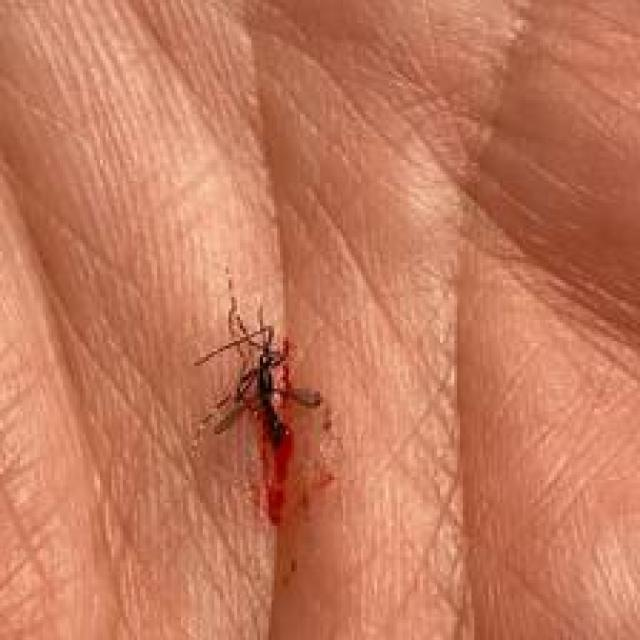Aedes albopictus: (191, 282, 326, 527)
